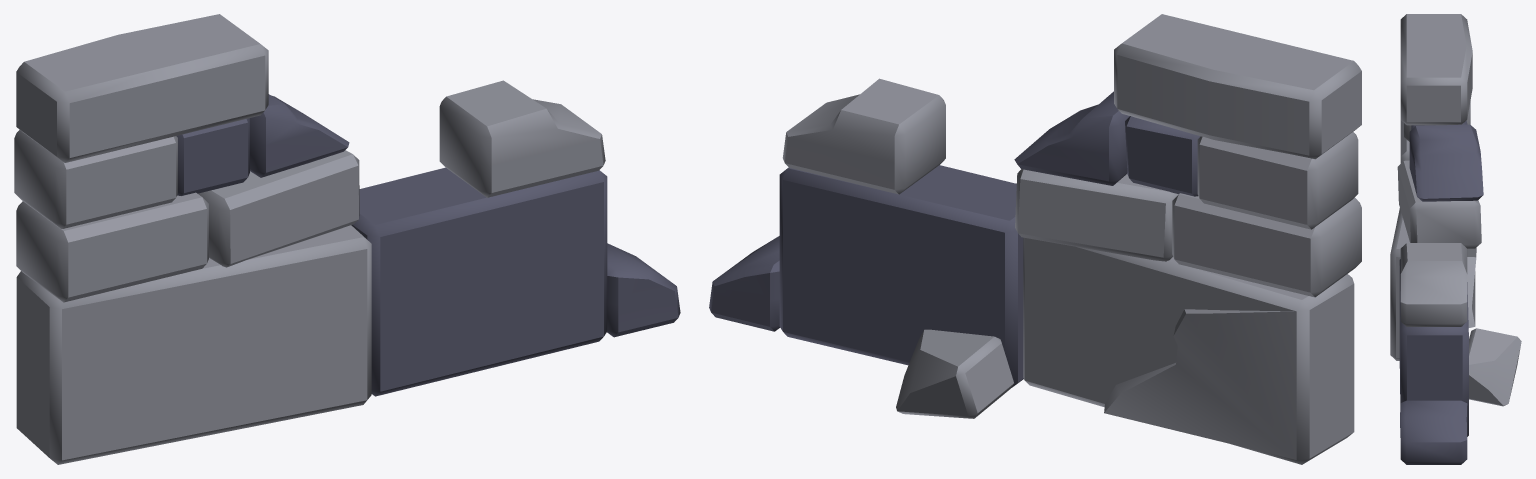
File: muro_quebrado_2.fbx
3 views of the same model, side by side, from view 1: azimuth 30°, elevation 25°; view 2: azimuth 150°, elevation 25°; view 3: azimuth 270°, elevation 25° (orthographic). The views are drawn at different scales.
Parts seen in each view (by area): view 1: muro_quebrado_2; view 2: muro_quebrado_2; view 3: muro_quebrado_2.
Boxes of the visible parts, bbox=[...] form: muro_quebrado_2: bbox=[14, 14, 680, 464]; muro_quebrado_2: bbox=[709, 14, 1361, 464]; muro_quebrado_2: bbox=[1390, 14, 1521, 464].
Size of the model in its own units: 528 by 324 by 144.
